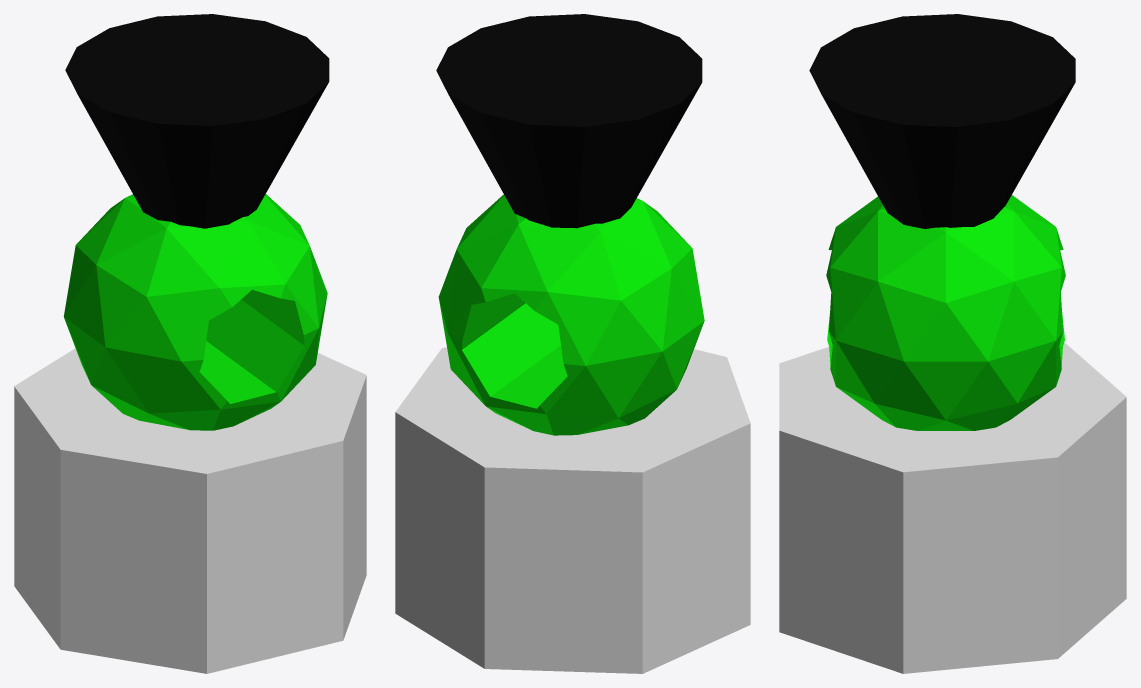
File: esferaTriangulo.fbx
The picture shows the model from 3 angles, left to right: view 1: azimuth 30°, elevation 25°; view 2: azimuth 150°, elevation 25°; view 3: azimuth 270°, elevation 25°; orthographic projection.
Parts seen in each view (by area): view 1: Cylinder, Icosphere, Cone.001; view 2: Cylinder, Icosphere, Cone.001; view 3: Cylinder, Icosphere, Cone.001.
Boxes of the visible parts, bbox=[...] form: Cylinder: bbox=[14, 348, 366, 673]; Icosphere: bbox=[63, 194, 327, 430]; Cone.001: bbox=[65, 14, 329, 228]; Cylinder: bbox=[395, 347, 750, 673]; Icosphere: bbox=[438, 194, 704, 435]; Cone.001: bbox=[436, 14, 702, 228]; Cylinder: bbox=[779, 342, 1126, 673]; Icosphere: bbox=[826, 195, 1065, 430]; Cone.001: bbox=[809, 14, 1075, 228].
Size of the model in its own units: 31.15 by 51.15 by 30.37.
